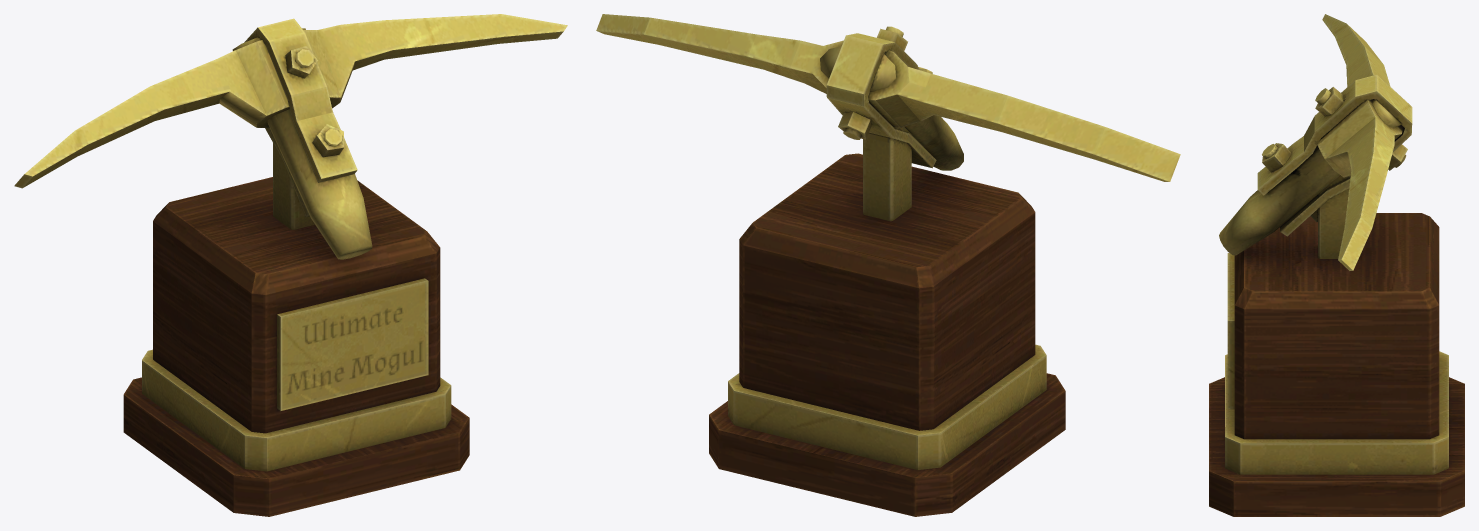
The model's file is Trophy_MineMogul.glb.
The picture shows the model from 3 angles, left to right: view 1: azimuth 30°, elevation 25°; view 2: azimuth 150°, elevation 25°; view 3: azimuth 270°, elevation 25°; orthographic projection. The views are drawn at different scales.
Parts seen in each view (by area): view 1: Trophy_MineMogul; view 2: Trophy_MineMogul; view 3: Trophy_MineMogul.
Boxes of the visible parts, x1,y1,x2,y2 form: Trophy_MineMogul: (14,14,567,516); Trophy_MineMogul: (596,14,1180,516); Trophy_MineMogul: (1209,14,1464,516).
Size of the model in its own units: 1.06 by 0.7407 by 0.4514.
Materials: 1 (1 with a texture image).
